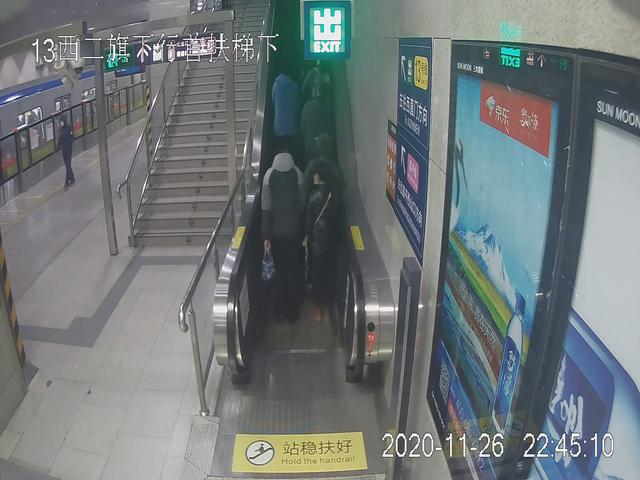person: (258, 141, 312, 322), (306, 163, 341, 319), (266, 62, 303, 168), (56, 114, 79, 188)
